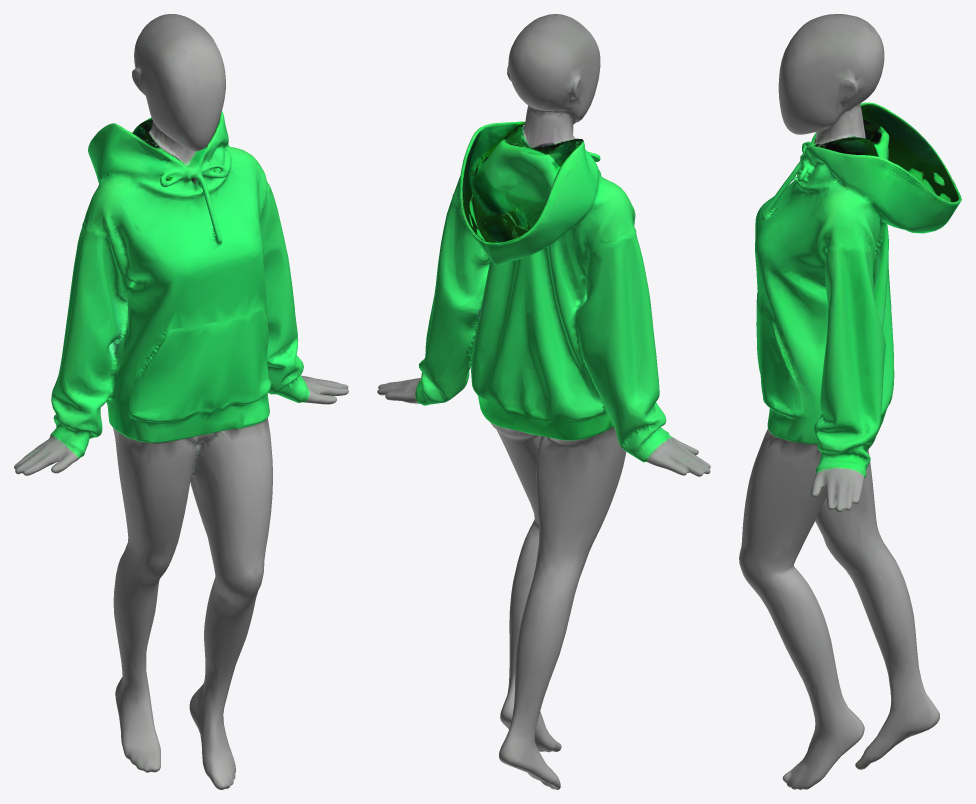
The model's file is avatar-hoodie-female.glb.
The picture shows the model from 3 angles, left to right: view 1: azimuth 30°, elevation 25°; view 2: azimuth 150°, elevation 25°; view 3: azimuth 270°, elevation 25°; orthographic projection.
Parts seen in each view (by area): view 1: Mesh_0; view 2: Mesh_0; view 3: Mesh_0.
Boxes of the visible parts, x1,y1,x2,y2 form: Mesh_0: [14, 14, 348, 789]; Mesh_0: [377, 14, 710, 789]; Mesh_0: [739, 14, 961, 789].
Bounding box in the file's own units: 0.8686 × 1.9 × 0.5055.
1 material, 1 textured.
